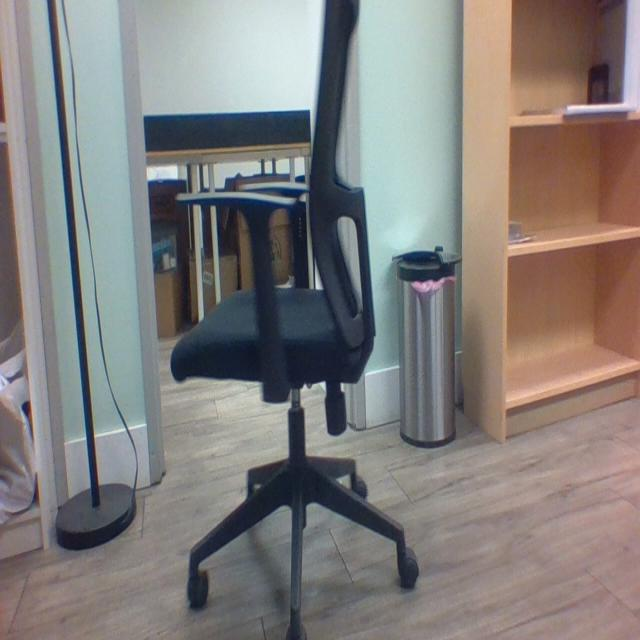black-chair: (170, 4, 420, 639)
